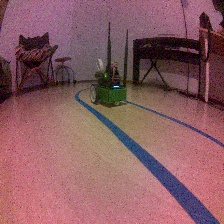rob: (88, 66, 128, 106)
